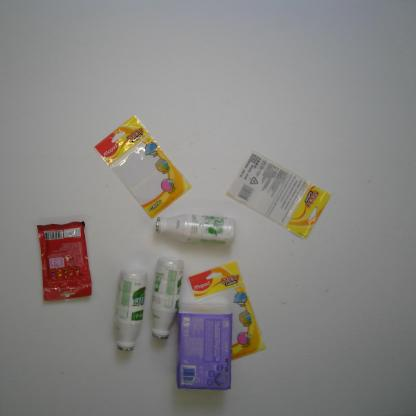Candy: (35, 220, 93, 305)
Milk: (147, 256, 187, 344), (111, 268, 149, 353), (153, 212, 240, 248)
Stationery: (224, 148, 334, 244), (92, 120, 192, 219), (188, 258, 267, 365)
Tissue: (172, 298, 236, 395)
